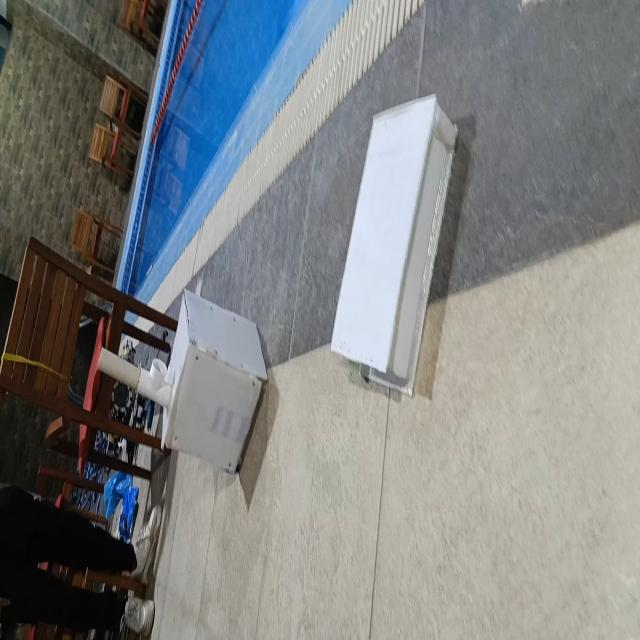Cube: (159, 286, 268, 474)
Cuboid: (329, 91, 458, 397)
